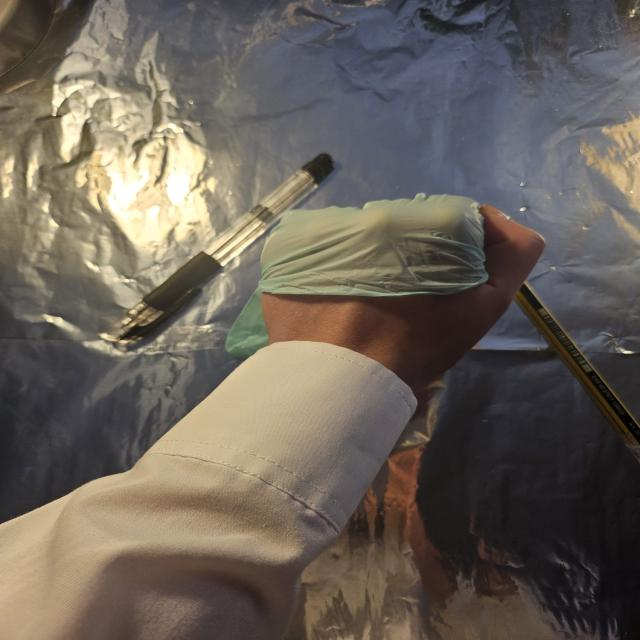glove_partial: (228, 195, 548, 398)
